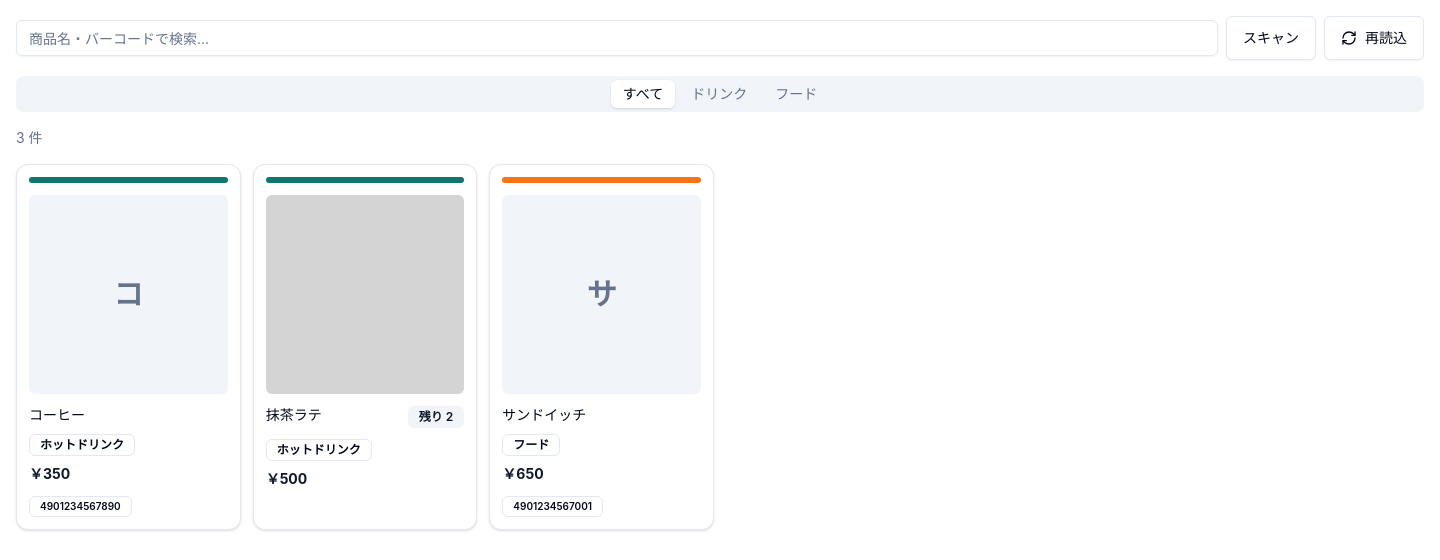
Test case: ProductsPage › 検索入力で商品が絞り込まれる
Expected: the text "コーヒー" is shown, left=29, top=406, right=85, bottom=423
Type "サンド" into the field with placeholder "商品名・バーコードで検索..." at {"x": 617, "y": 38}, box left=16, top=20, right=1218, bottom=56
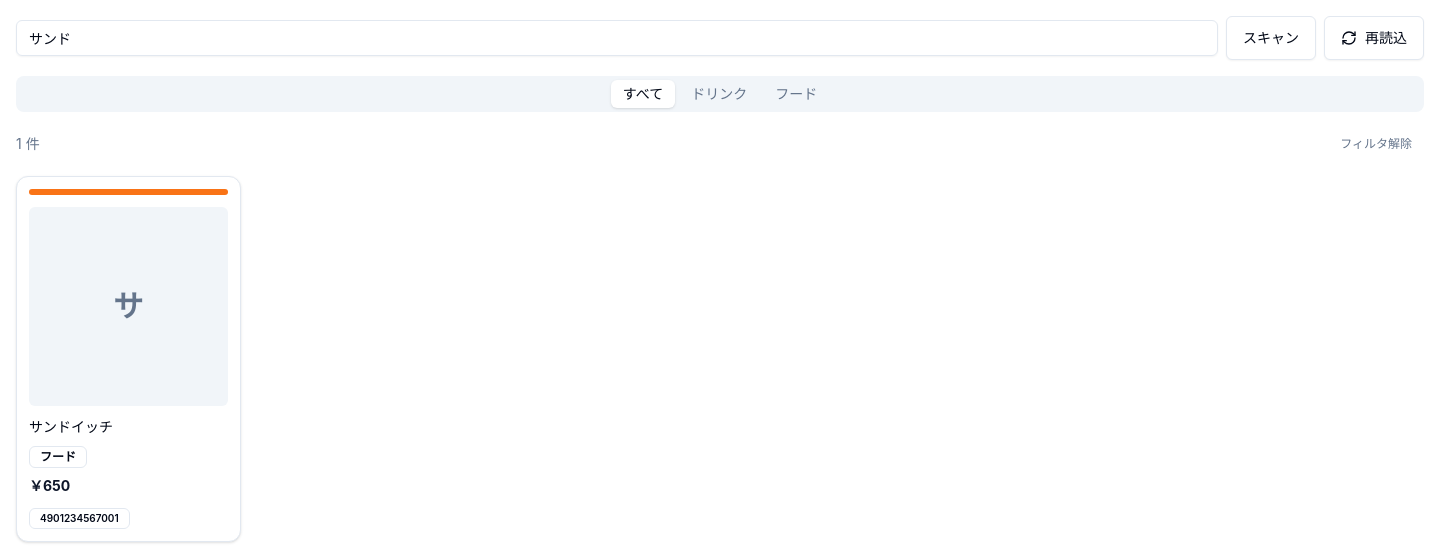
Expected: the text "サンドイッチ" is shown, left=29, top=418, right=113, bottom=435
Result: the button "コーヒー" is gone
